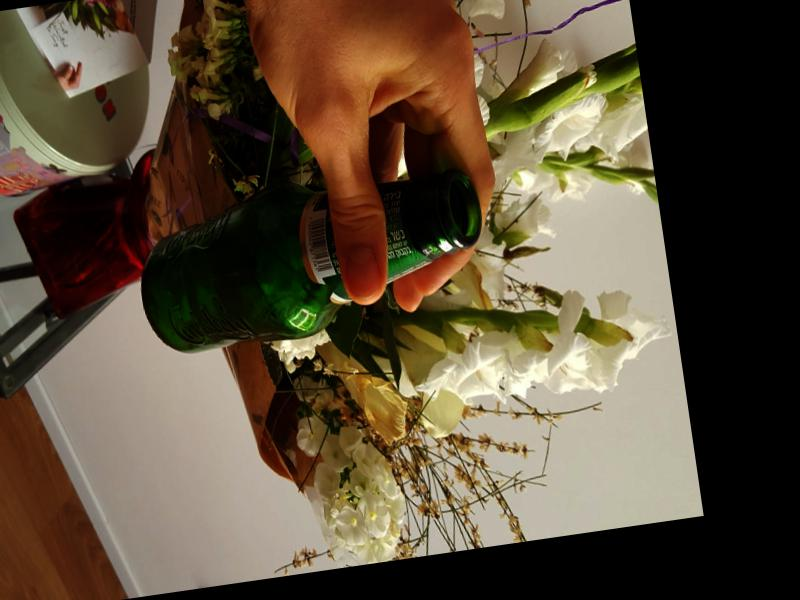Beer: (127, 158, 492, 361)
